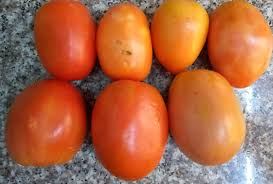tomato: (5, 79, 87, 169)
